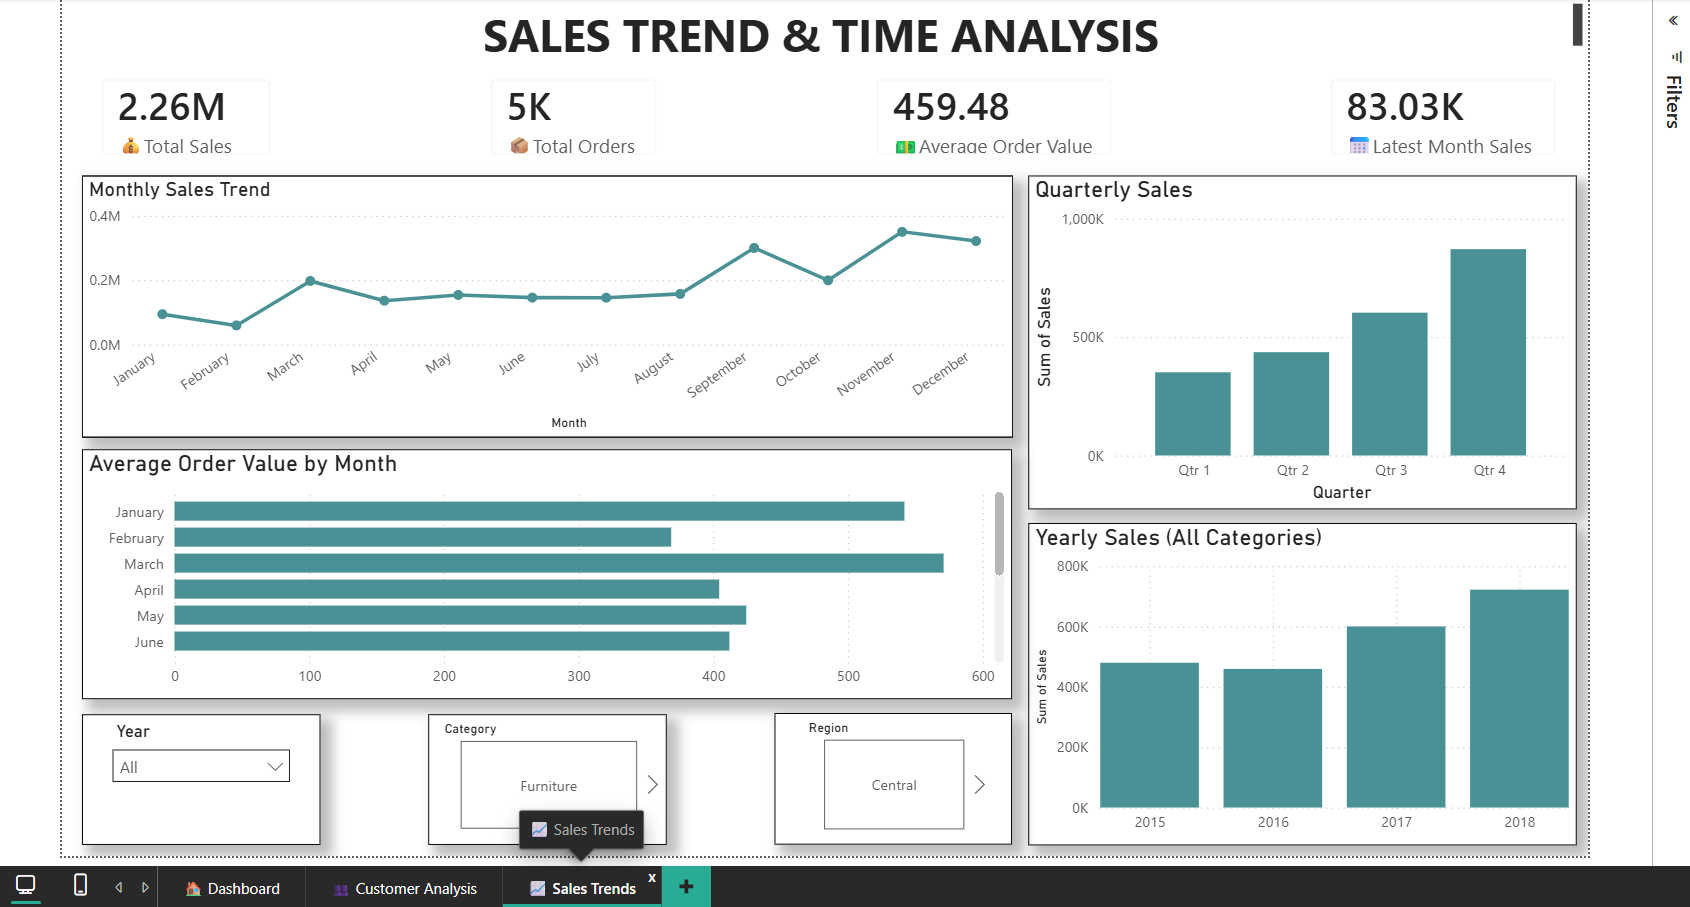

The page's visual inventory and layout, read from the dashboard file:
{"tool":"powerbi","page":{"name":"📈 Sales Trends","canvas":[1280,720],"ordinal":2},"visuals":[{"type":"textbox","box":[0,0,1280.3,51.4],"z":0},{"type":"cardVisual","fields":{"Data":["train.Total Sales"]},"box":[17.1,51.1,175.2,97.5],"z":1000},{"type":"cardVisual","fields":{"Data":["train.Total Orders"]},"box":[342.4,51.1,174,97.9],"z":2000},{"type":"cardVisual","fields":{"Data":["train.Average Order Value"]},"box":[666.5,51.1,230.5,97.9],"z":3000},{"type":"cardVisual","fields":{"Data":["train.Latest Month Sales"]},"box":[1047.1,51.1,222.9,97.9],"z":4000},{"type":"lineChart","title":"Monthly Sales Trend","fields":{"Category":["train.Order Date.Variation.Date Hierarchy.Month"],"Y":["Sum(train.Sales)"]},"box":[17.1,148.8,781.1,220],"z":5000},{"type":"clusteredColumnChart","title":"Quarterly Sales","fields":{"Y":["Sum(train.Sales)"],"Category":["train.Order Date.Variation.Date Hierarchy.Quarter"]},"box":[810,148.8,459.7,280],"z":6000},{"type":"clusteredColumnChart","fields":{"Y":["Sum(train.Sales)"],"Category":["train.Order Date.Variation.Date Hierarchy.Year"]},"box":[810,439.9,459.7,270],"z":7000},{"type":"clusteredBarChart","title":"Average Order Value by Month","fields":{"Category":["train.Order Date.Variation.Date Hierarchy.Month"],"Y":["train.Average Order Value"]},"box":[17.1,378,779.8,209.4],"z":8000},{"type":"slicer","fields":{"Values":["train.Order Date.Variation.Date Hierarchy.Year"]},"box":[17.1,600.6,200.2,109.3],"z":9000},{"type":"slicer","fields":{"Values":["train.Category"]},"box":[307.6,600.6,200.2,109.3],"z":10000},{"type":"slicer","fields":{"Values":["train.Region"]},"box":[598,599.3,198.9,110.6],"z":11000}]}

Visuals, with their boxes in screenshot pixels (x1, y1, x2, y2):
textbox: Rect(53, 0, 1586, 53)
cardVisual - train.Total Sales: Rect(73, 52, 283, 169)
cardVisual - train.Total Orders: Rect(463, 52, 671, 170)
cardVisual - train.Average Order Value: Rect(851, 52, 1127, 170)
cardVisual - train.Latest Month Sales: Rect(1307, 52, 1574, 170)
"Monthly Sales Trend" lineChart: Rect(73, 169, 1009, 433)
"Quarterly Sales" clusteredColumnChart: Rect(1023, 169, 1574, 505)
clusteredColumnChart - Sum(train.Sales) x train.Order Date.Variation.Date Hierarchy.Year: Rect(1023, 518, 1574, 841)
"Average Order Value by Month" clusteredBarChart: Rect(73, 444, 1007, 695)
slicer - train.Order Date.Variation.Date Hierarchy.Year: Rect(73, 711, 313, 841)
slicer - train.Category: Rect(421, 711, 661, 841)
slicer - train.Region: Rect(769, 709, 1007, 841)
